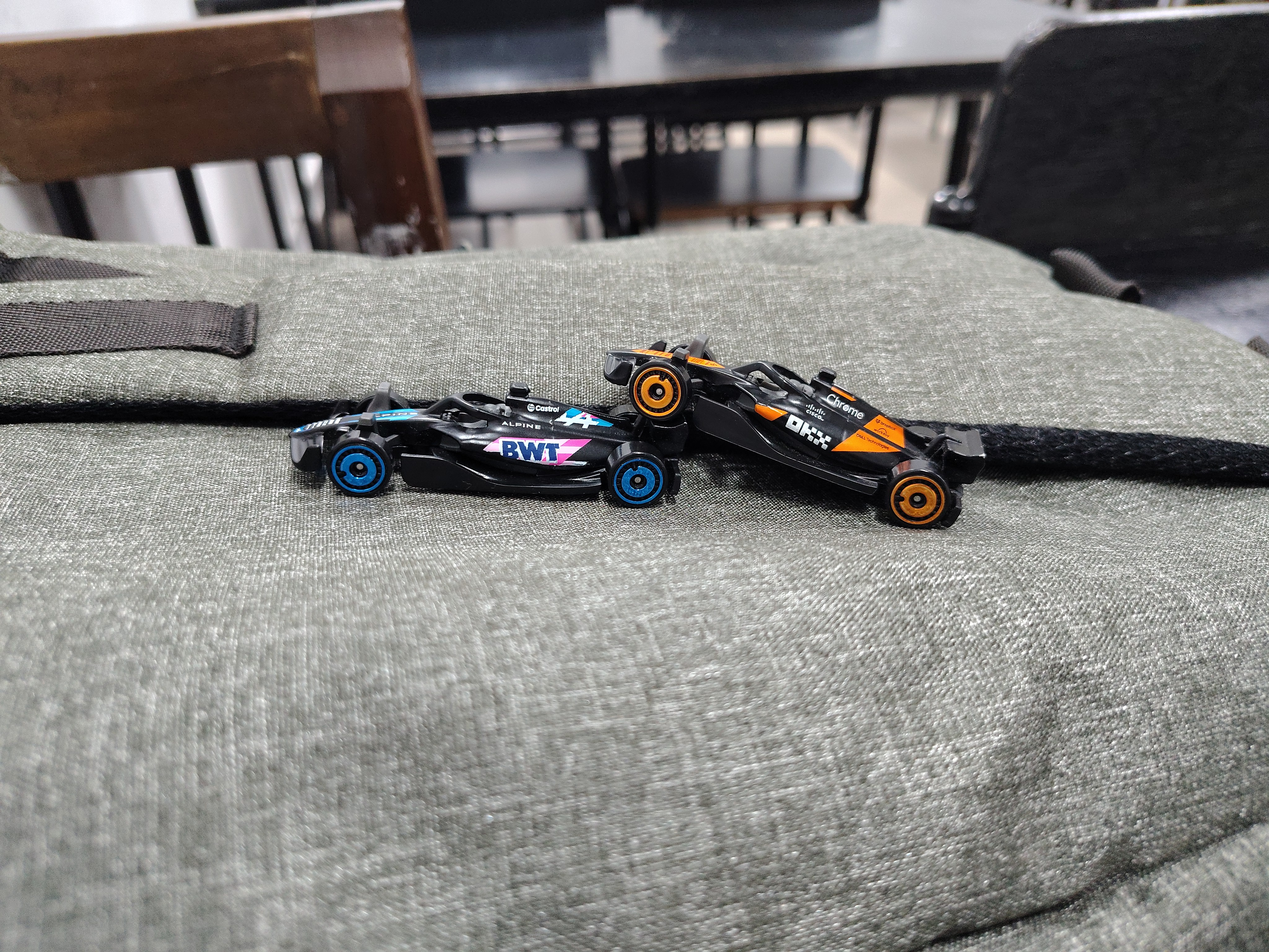Alpine A524: (260, 349, 683, 547)
McLaren MCL40: (599, 322, 1007, 519)
